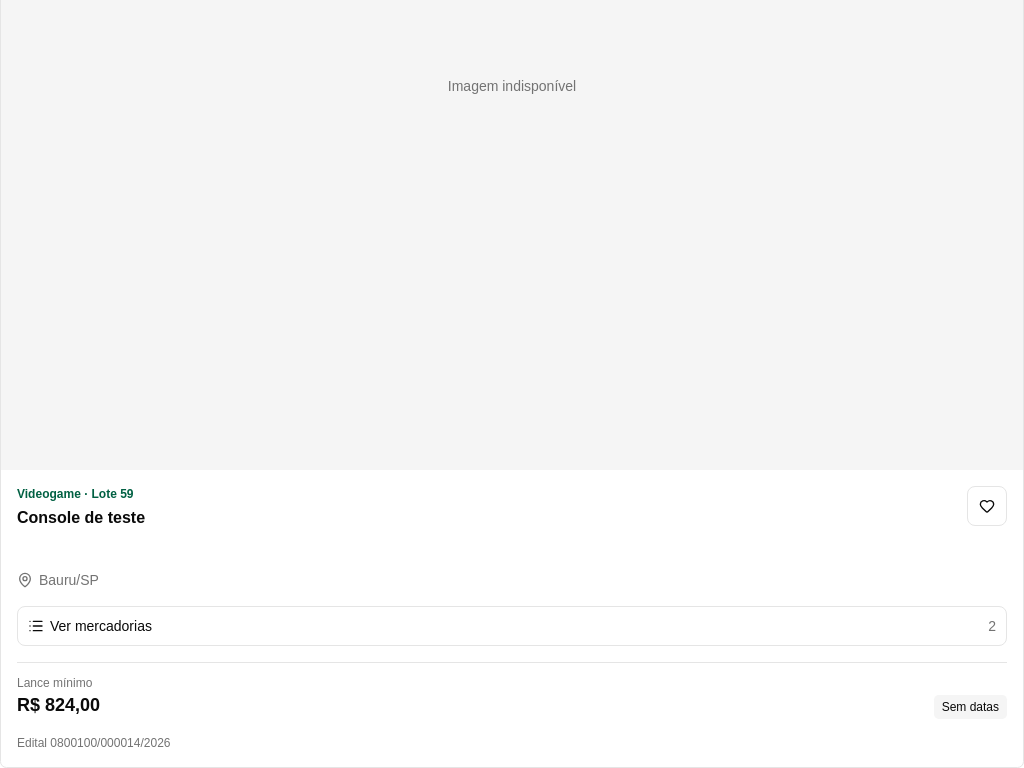
Test: LotCard merchandise dialog › shows each item with quantity and unit without navigating to lot details
The width and height of the screenshot is (1024, 768).
(page scrolled)
Click the button with aria-label "Ver 2 mercadorias do lote 59" at (101, 626), box [17,606,1007,646]
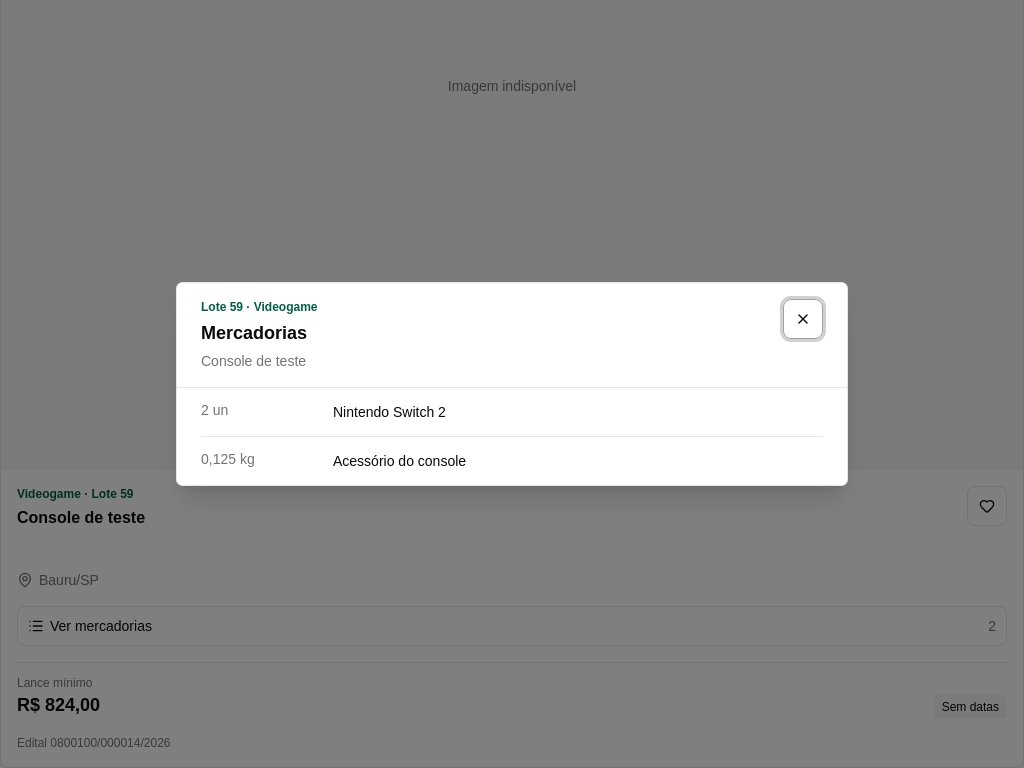
expect the dialog is shown: met, box [176,282,848,486]
expect the heading "Mercadorias" is shown: met, box [201,319,318,347]
expect the text "Nintendo Switch 2" is shown: met, box [333,404,446,420]
